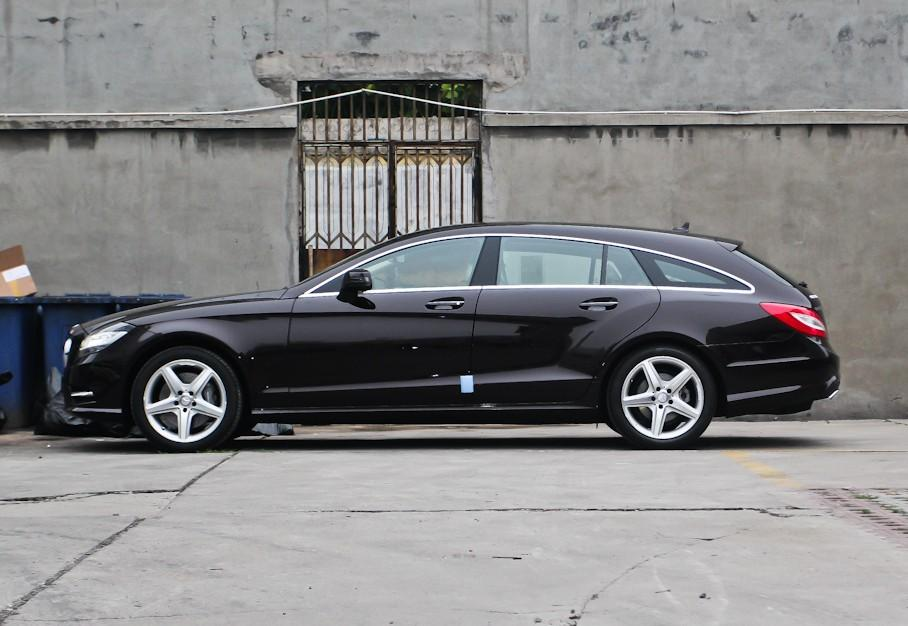Wagon: (63, 220, 843, 452)
